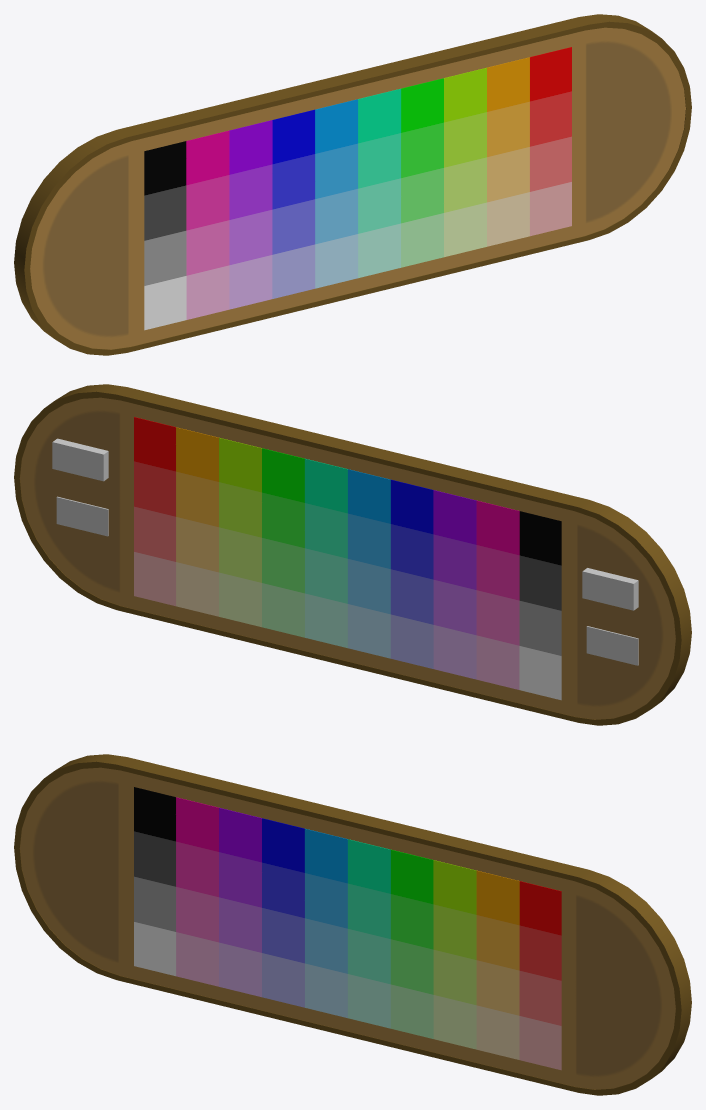
The model's file is cytanb-color-palette.fbx.
3 views of the same model, one above another, from view 1: azimuth 30°, elevation 25°; view 2: azimuth 150°, elevation 25°; view 3: azimuth 330°, elevation 25° (orthographic).
Parts seen in each view (by area): view 1: palette-colors, palette-base, current-color; view 2: palette-colors, palette-base, current-color, opacity-switch, brightness-switch, advanced-switch, picker-switch; view 3: palette-colors, palette-base, current-color.
Boxes of the visible parts, box(x1,y1,x2,y2) form: palette-colors: box(144, 47, 571, 330); palette-base: box(30, 27, 685, 349); current-color: box(14, 14, 691, 355); palette-colors: box(134, 417, 561, 700); palette-base: box(20, 397, 675, 719); current-color: box(14, 384, 691, 725); opacity-switch: box(52, 438, 108, 481); brightness-switch: box(582, 568, 638, 610); advanced-switch: box(56, 496, 108, 536); picker-switch: box(586, 626, 638, 665); palette-colors: box(134, 787, 561, 1070); palette-base: box(20, 767, 675, 1089); current-color: box(14, 754, 691, 1095).
Size of the model in its own units: 1.56 by 0.482 by 0.061.
